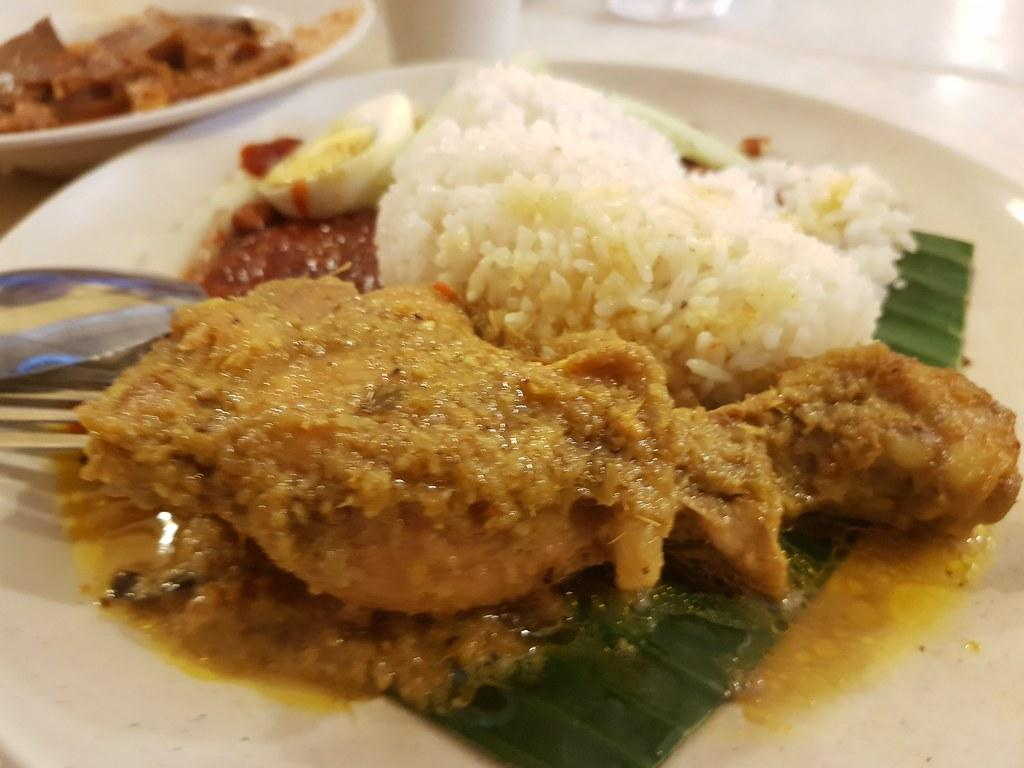Boiled-Egg: (257, 94, 419, 219)
Rendang-Chicken: (61, 276, 1020, 619)
Rice: (375, 69, 911, 411)
Sambal: (196, 204, 378, 299)
